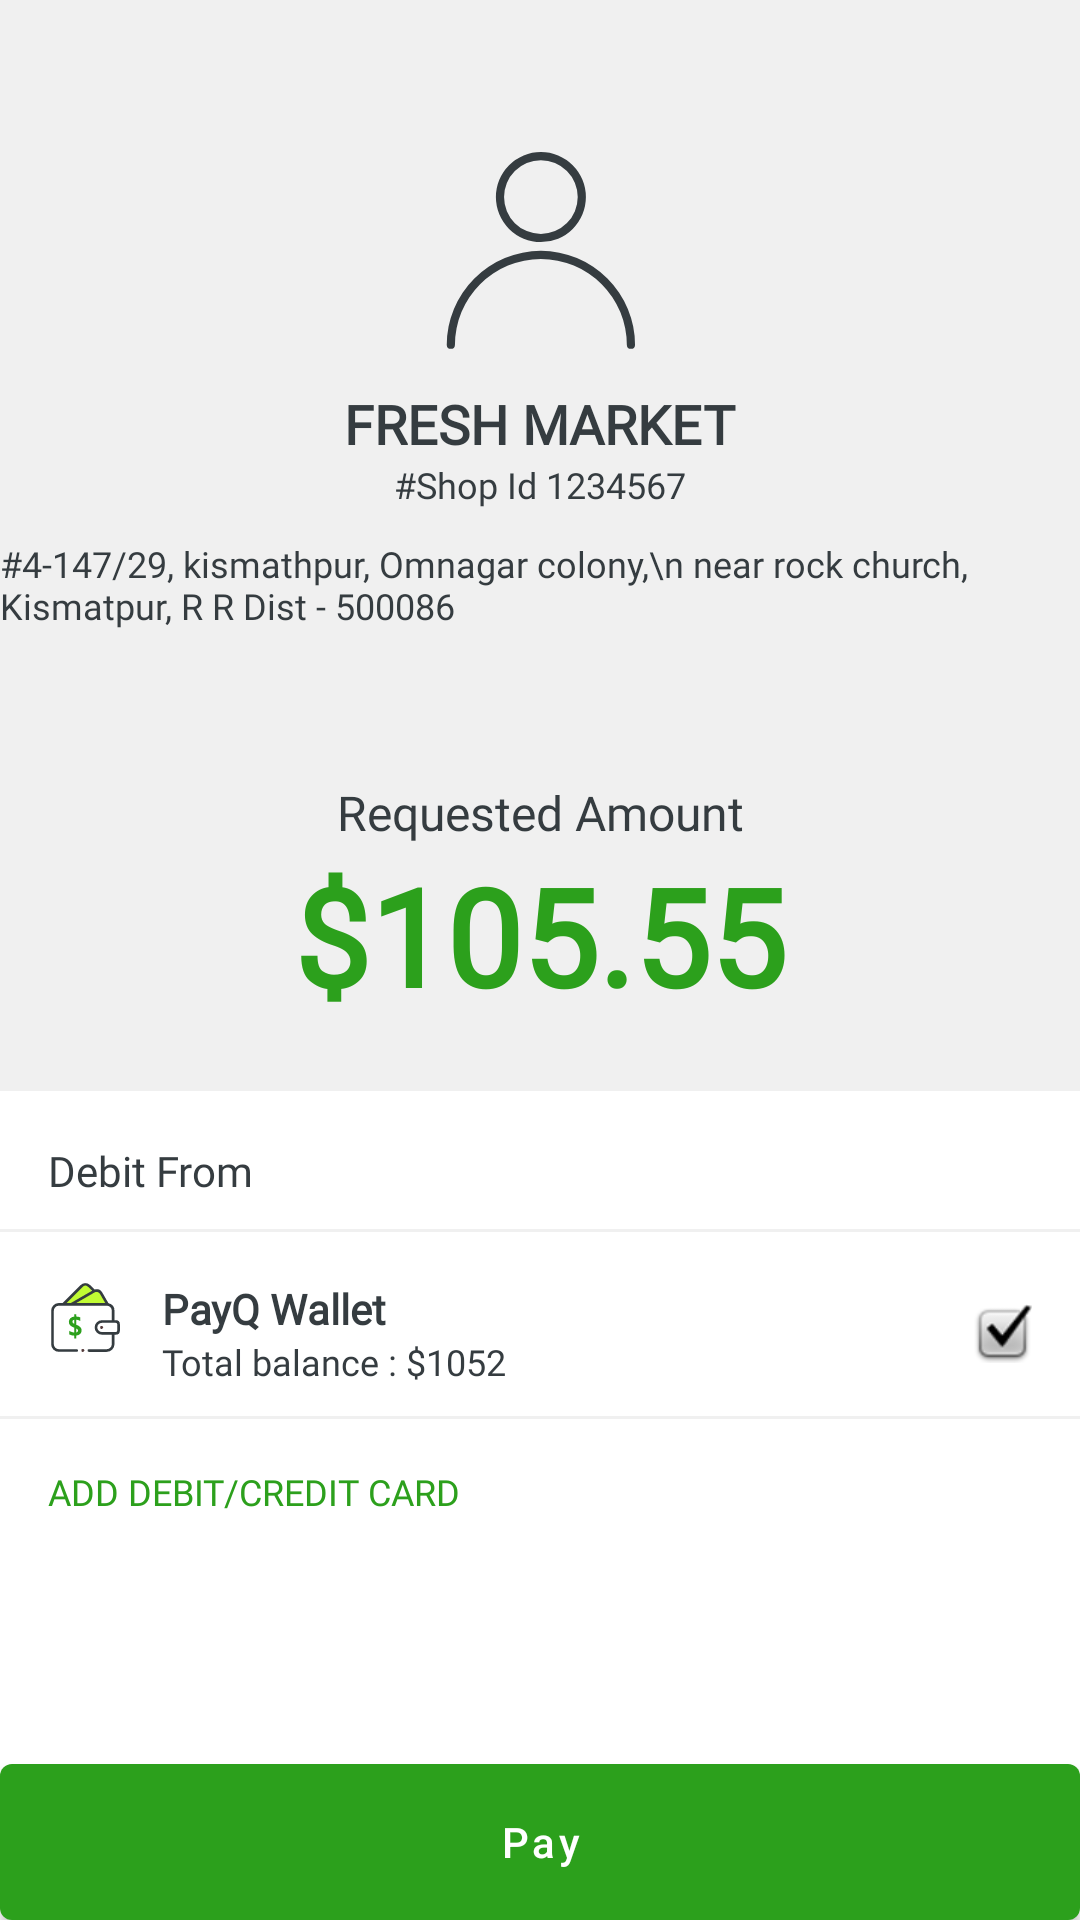

Point at icon controls on the screen. Image size 1080px×1920px, points as (x,y).
profile: (540,250)
